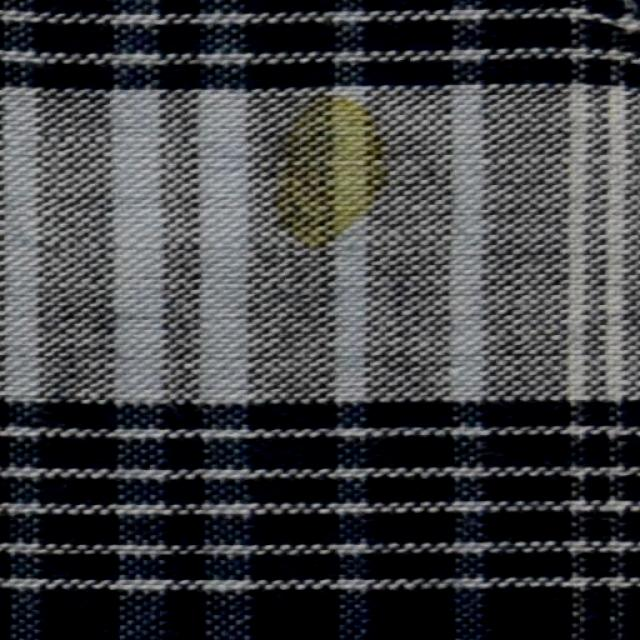Stain: (251, 90, 396, 236)
